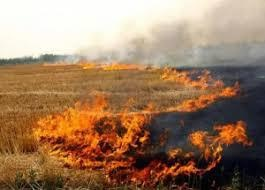fire: (35, 55, 241, 180)
